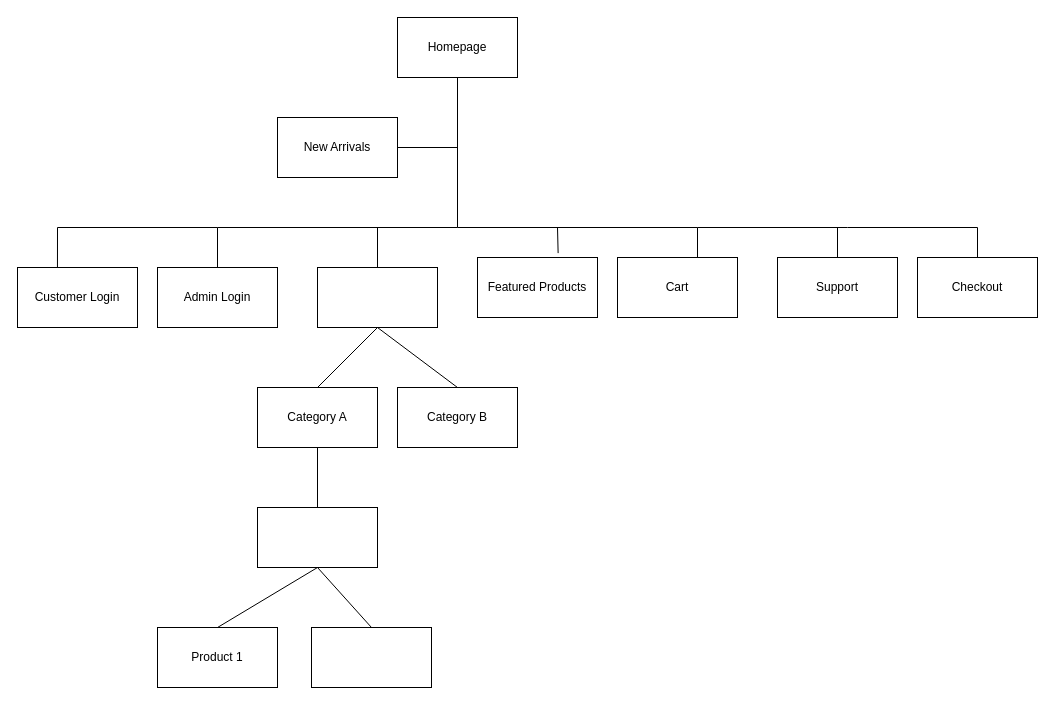
This 1055x705 diagram has some shape labels left out. The box of each missing label's shape, as (x1, y1, x2, y2) in pixels:
Category 1: (256, 506, 378, 568)
Product 2: (310, 626, 432, 688)
Shop by Category: (316, 266, 438, 328)
